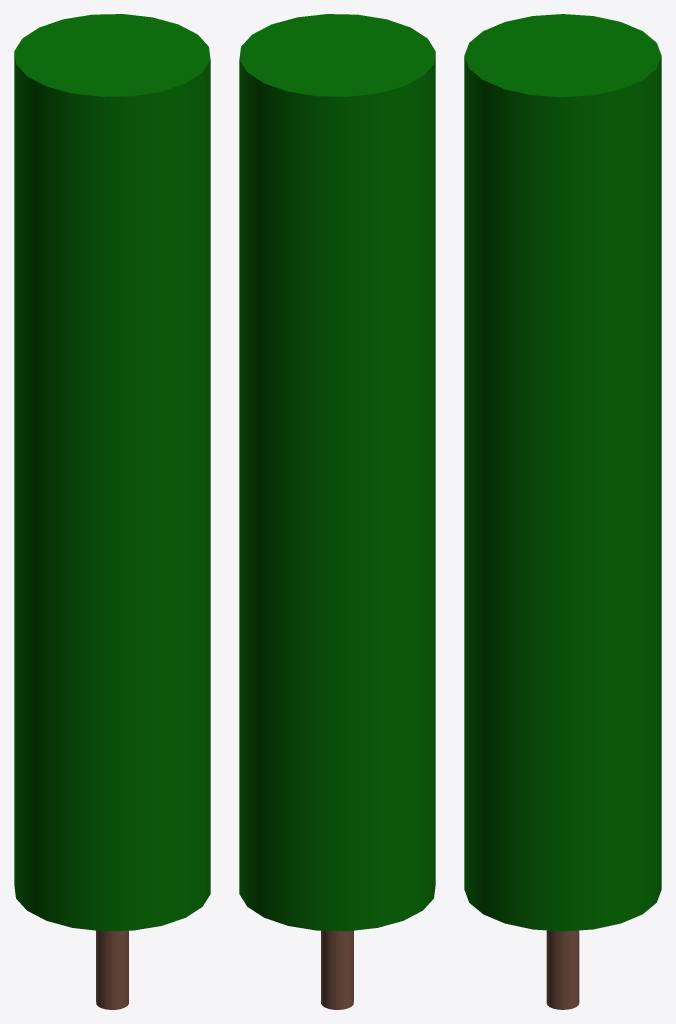
File: TallTree.fbx
3 views of the same model, side by side, from view 1: azimuth 30°, elevation 25°; view 2: azimuth 150°, elevation 25°; view 3: azimuth 270°, elevation 25° (orthographic).
Parts seen in each view (by area): view 1: Tree__1_, Tree; view 2: Tree__1_, Tree; view 3: Tree__1_, Tree.
Boxes of the visible parts, x1,y1,x2,y2 form: Tree__1_: (14,14,210,931); Tree: (96,930,128,1009); Tree__1_: (239,14,435,931); Tree: (321,930,353,1009); Tree__1_: (464,14,661,931); Tree: (546,930,579,1009).
Size of the model in its own units: 150 by 795 by 150.
